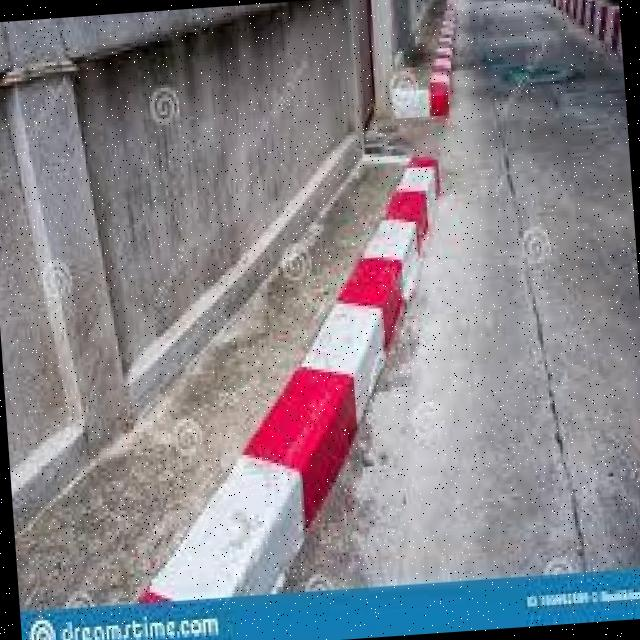curb: (139, 407, 372, 601), (287, 298, 442, 431), (358, 165, 460, 317), (421, 1, 467, 114), (390, 79, 478, 132), (552, 1, 622, 48)
